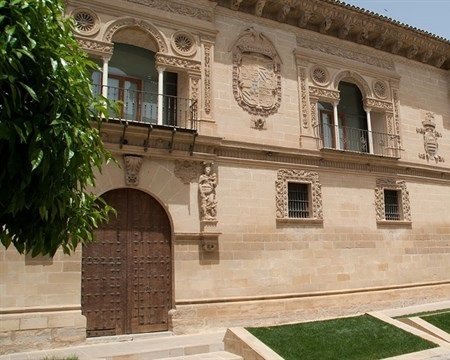arco-medio-punto: (75, 183, 181, 243)
serliana: (76, 15, 192, 130), (314, 69, 395, 151)
